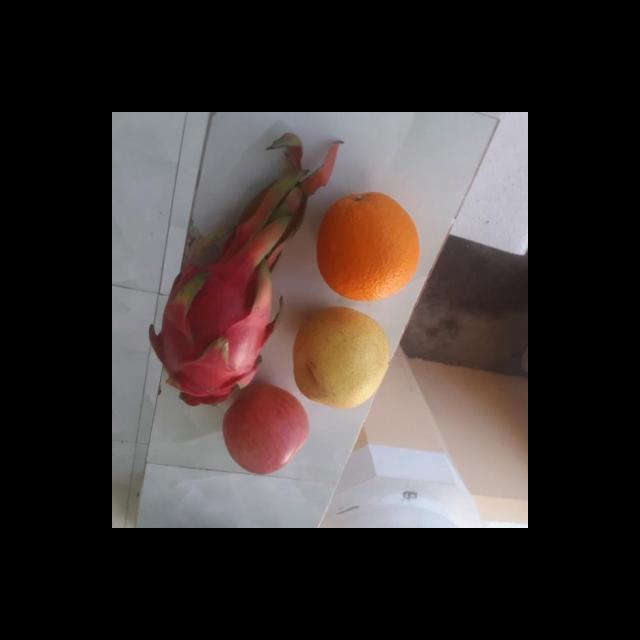apple: (218, 386, 314, 480)
orange: (312, 192, 421, 305)
pear: (288, 308, 390, 407)
pitaya: (144, 243, 278, 408)
